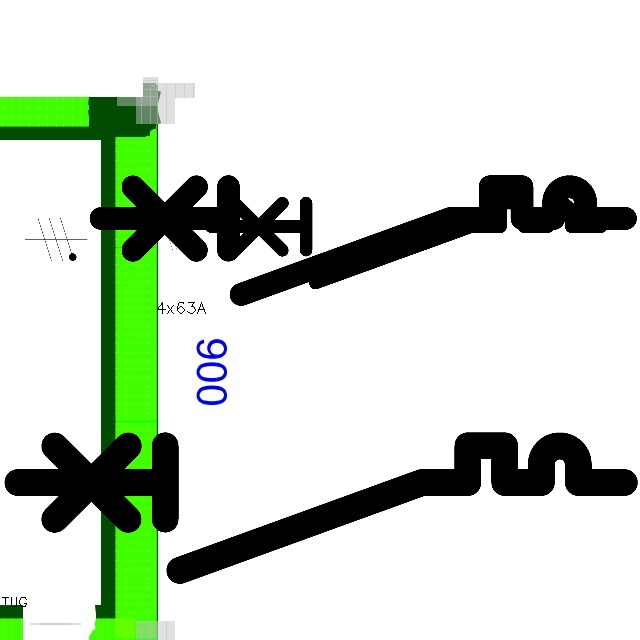interruptor_termomagnetico: (2, 430, 640, 586), (87, 173, 638, 308), (201, 193, 610, 293)
